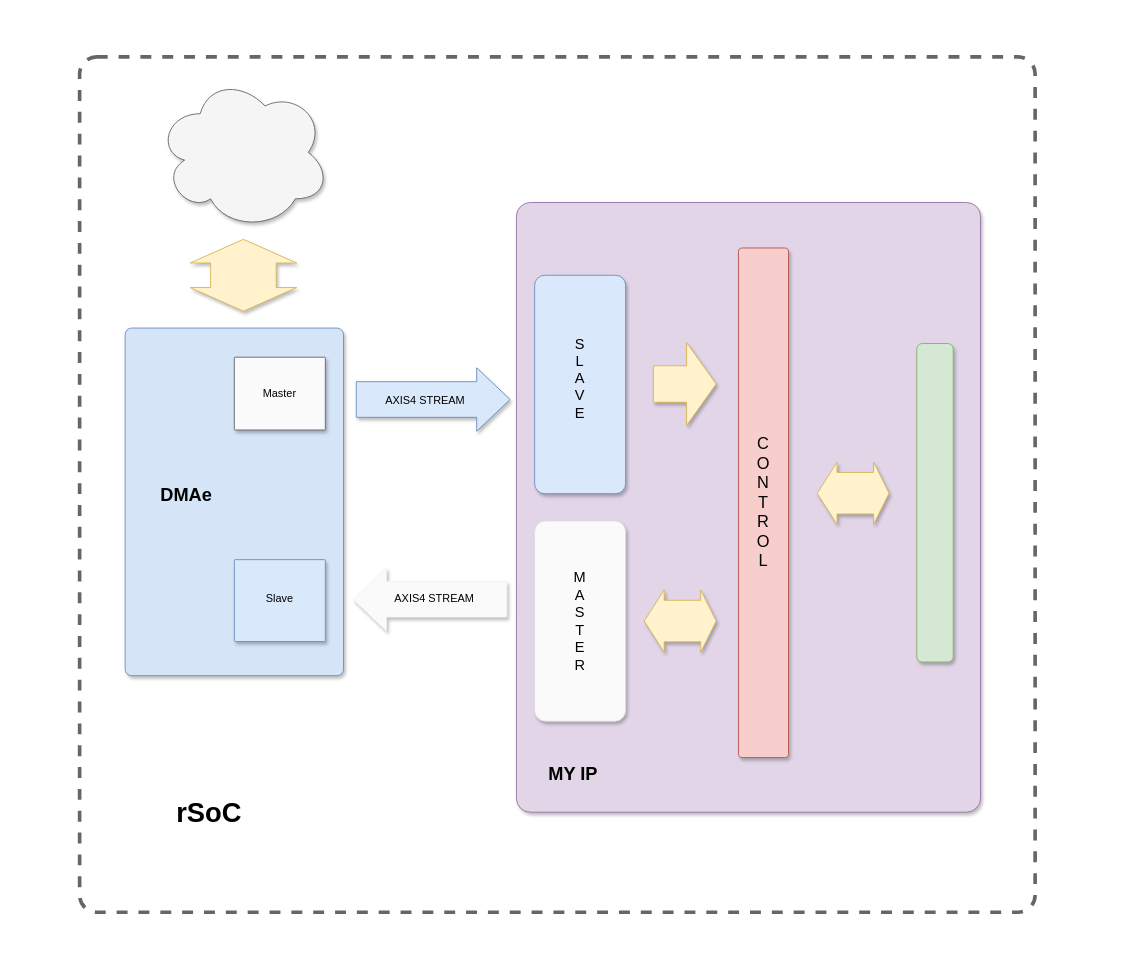
Image size: 1126x959. Some labels were removed from this diagram. Here are the shapes that lost their labels. From the top down, the centre of each, then its label:
the point at 243,153: PS and Logic
the point at 935,503: F I F O
